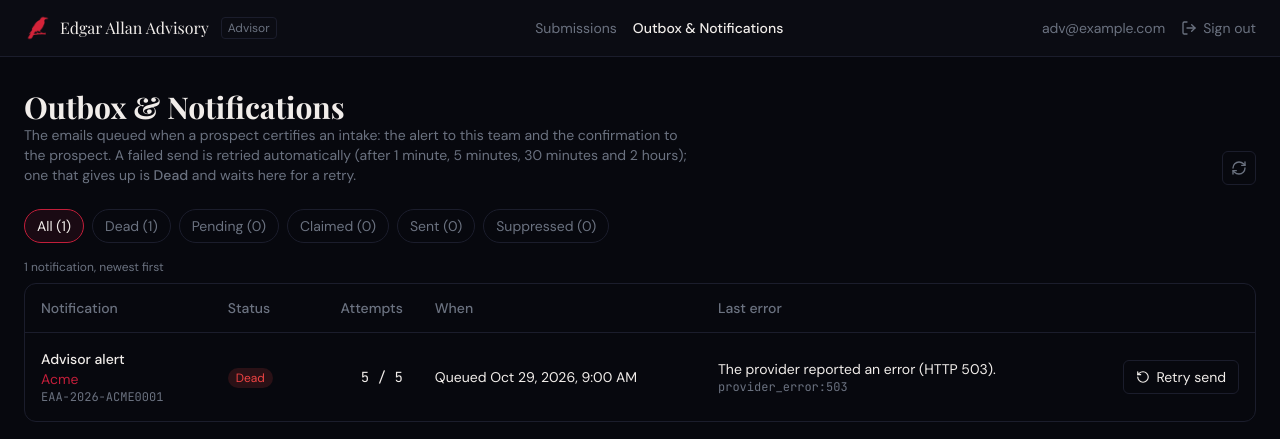
it: AdvisorOutboxPage › retrying › requeues with one click, says it will go out on the next run, and reloads the queue
This screenshot has width=1280, height=439.
What coordinates should you click on to do the following:
click the button with aria-label "Retry send: Advisor alert for Acme"
I would click on:
 (1181, 376)
Its box is [1123,360,1239,394].
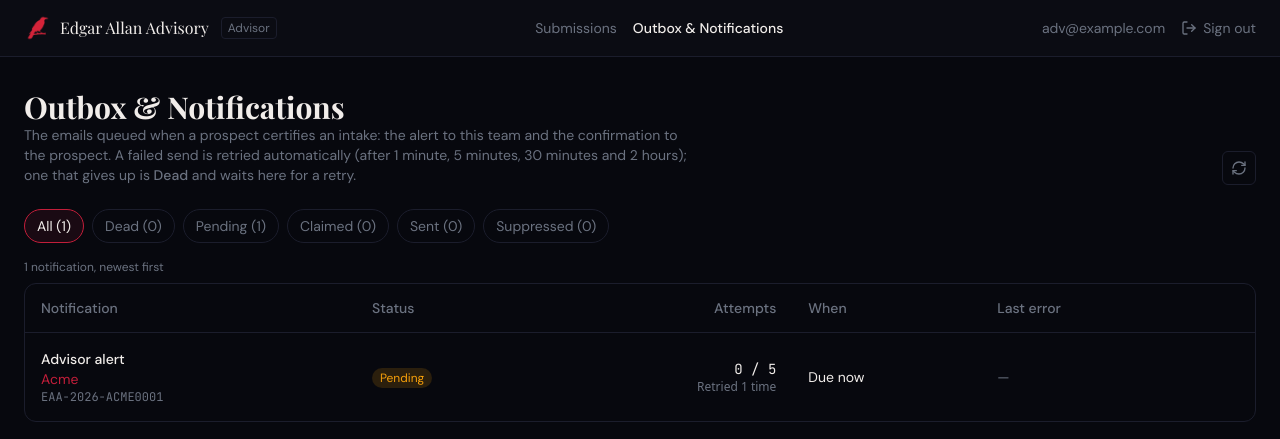
Result: the text "0 / 5" is shown at [554,332,792,420]
Result: the text "Retried 1 time" is shown at [697,378,776,394]
Result: the button "Retry send" is gone
